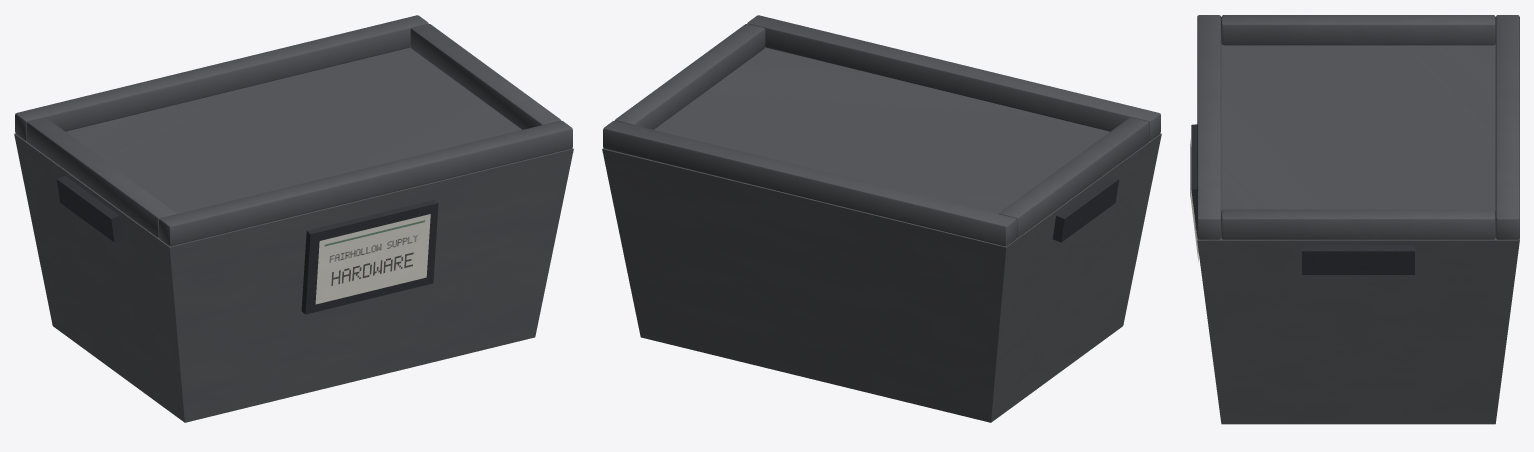
Rendered from storage_tote_charcoal.glb.
3 views of the same model, side by side, from view 1: azimuth 30°, elevation 25°; view 2: azimuth 150°, elevation 25°; view 3: azimuth 270°, elevation 25° (orthographic). The views are drawn at different scales.
Parts seen in each view (by area): view 1: Tote_Body, Rim_F, Rim_B, Label_Card, Rim_L, Rim_R, Label_Holder, Grip_L; view 2: Tote_Body, Rim_B, Rim_F, Rim_L, Rim_R, Grip_L; view 3: Tote_Body, Rim_R, Rim_L, Rim_B, Rim_F, Grip_R, Label_Holder.
Boxes of the visible parts, left/top/right/bottom form: Tote_Body: left=14, top=47, right=573, bottom=422; Rim_F: left=159, top=120, right=572, bottom=246; Rim_B: left=15, top=15, right=428, bottom=140; Label_Card: left=315, top=214, right=430, bottom=304; Rim_L: left=26, top=117, right=176, bottom=237; Rim_R: left=410, top=24, right=560, bottom=129; Label_Holder: left=301, top=199, right=438, bottom=314; Grip_L: left=57, top=176, right=123, bottom=242; Tote_Body: left=602, top=47, right=1161, bottom=422; Rim_B: left=603, top=120, right=1016, bottom=246; Rim_F: left=747, top=15, right=1160, bottom=140; Rim_L: left=999, top=117, right=1149, bottom=237; Rim_R: left=615, top=24, right=765, bottom=129; Grip_L: left=1052, top=176, right=1118, bottom=242; Tote_Body: left=1197, top=43, right=1519, bottom=424; Rim_R: left=1221, top=209, right=1495, bottom=239; Rim_L: left=1221, top=15, right=1495, bottom=45; Rim_B: left=1495, top=15, right=1519, bottom=239; Rim_F: left=1197, top=15, right=1221, bottom=239; Grip_R: left=1302, top=245, right=1414, bottom=274; Label_Holder: left=1191, top=124, right=1197, bottom=236.
Bounding box in the file's own units: 0.6235 × 0.3 × 0.4088.
4 materials, 3 textured.
